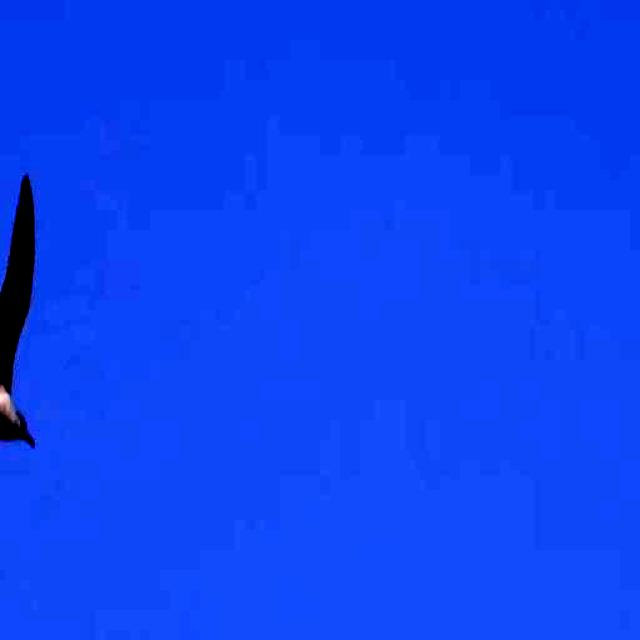airplane: (0, 172, 45, 486)
